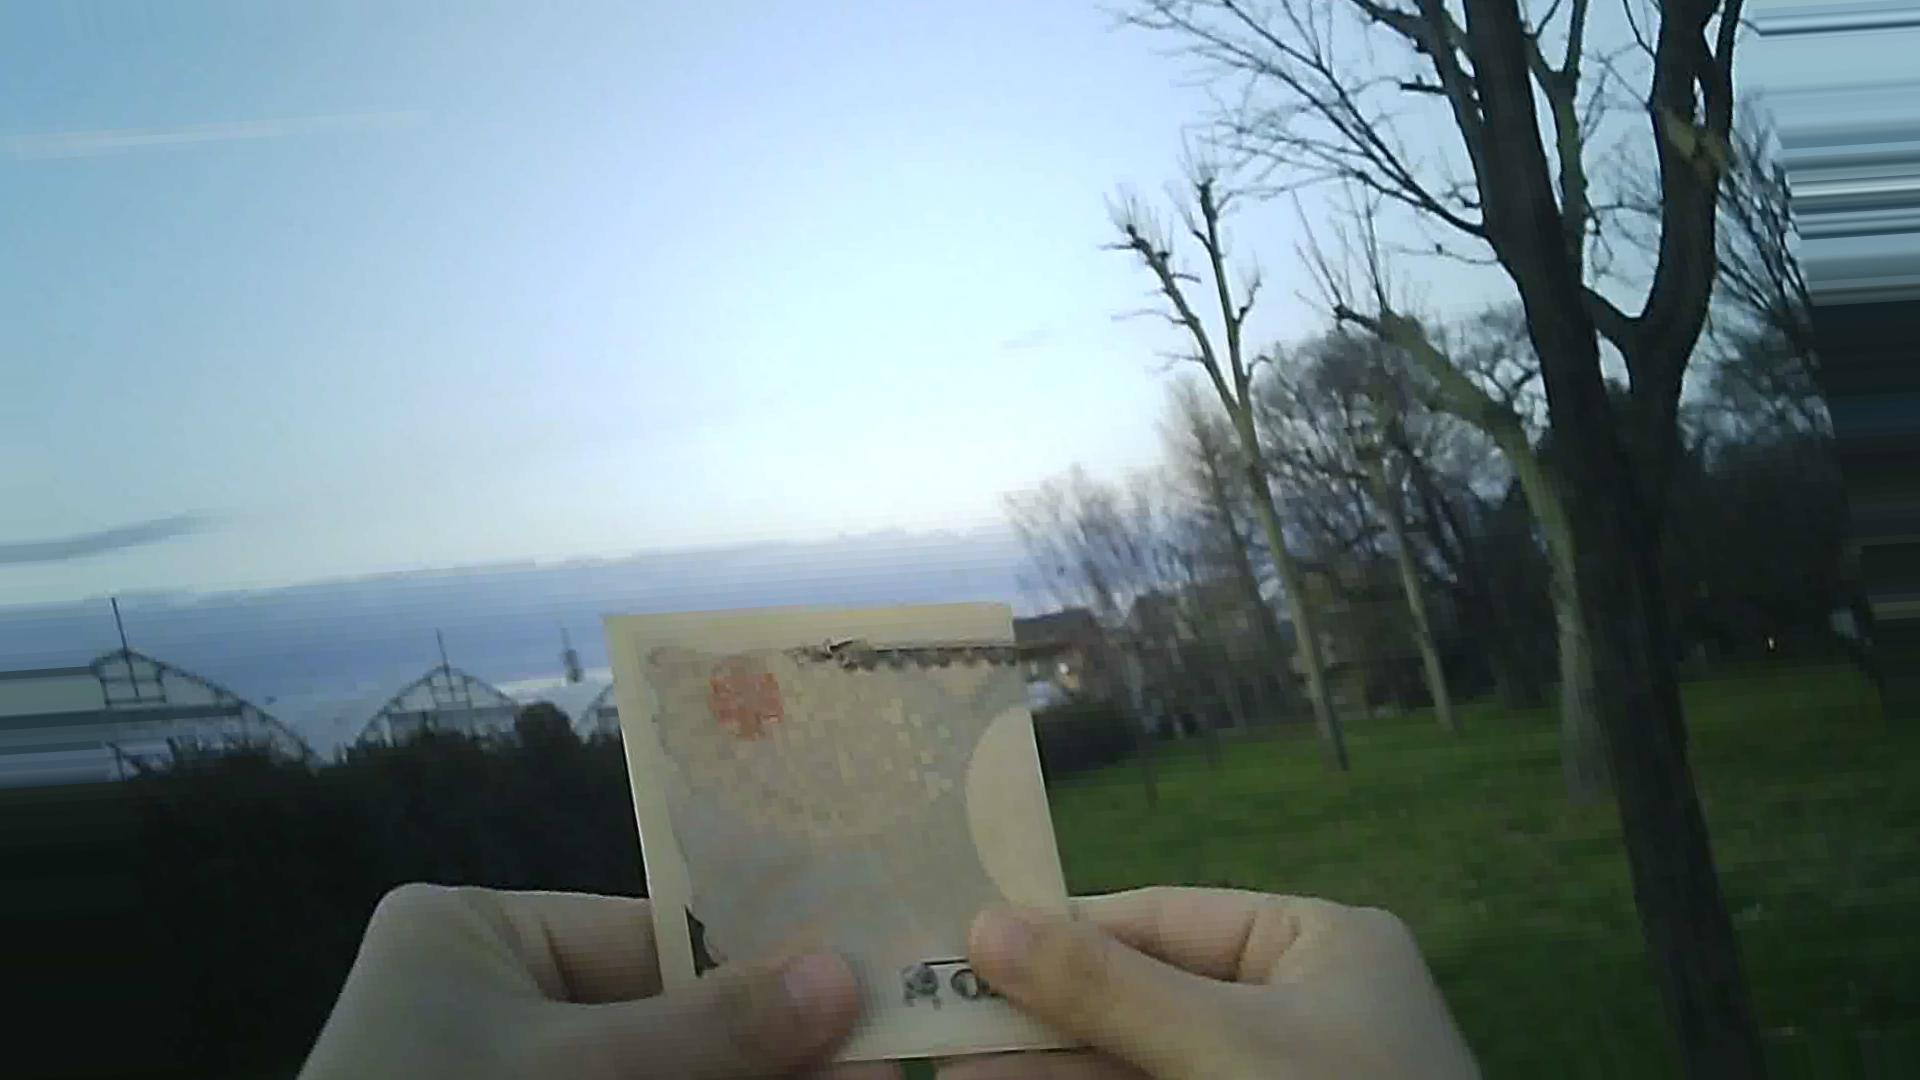10,000 Yen: (591, 589, 1131, 1079)
